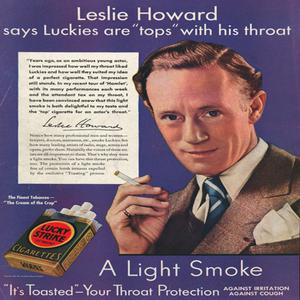cigarette: (113, 167, 153, 195)
